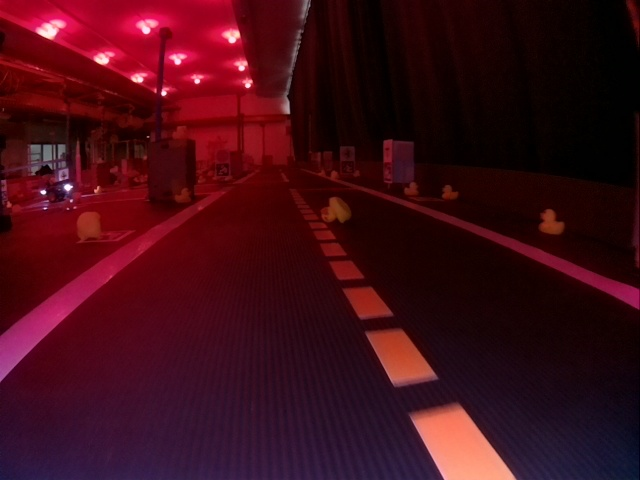Duckie: (320, 197, 350, 223), (77, 212, 101, 241), (539, 209, 564, 234), (441, 187, 458, 200), (176, 188, 191, 201), (406, 183, 418, 195), (332, 171, 340, 180), (352, 170, 361, 178), (319, 169, 327, 178)
Intersection sign: (384, 145, 393, 159), (343, 149, 353, 158)
QR code: (76, 232, 133, 242), (384, 163, 393, 180), (216, 164, 228, 175), (342, 161, 352, 174)
